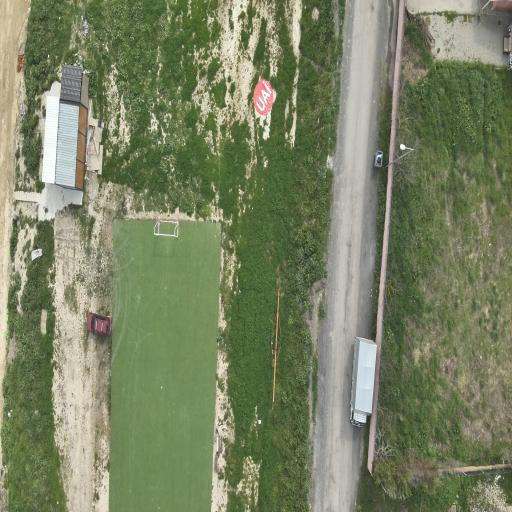UAI: (254, 80, 273, 115)
car: (351, 338, 376, 426), (87, 313, 111, 336)
